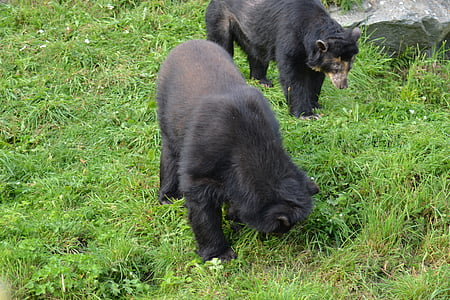bear: (152, 40, 319, 259), (204, 1, 359, 117)
